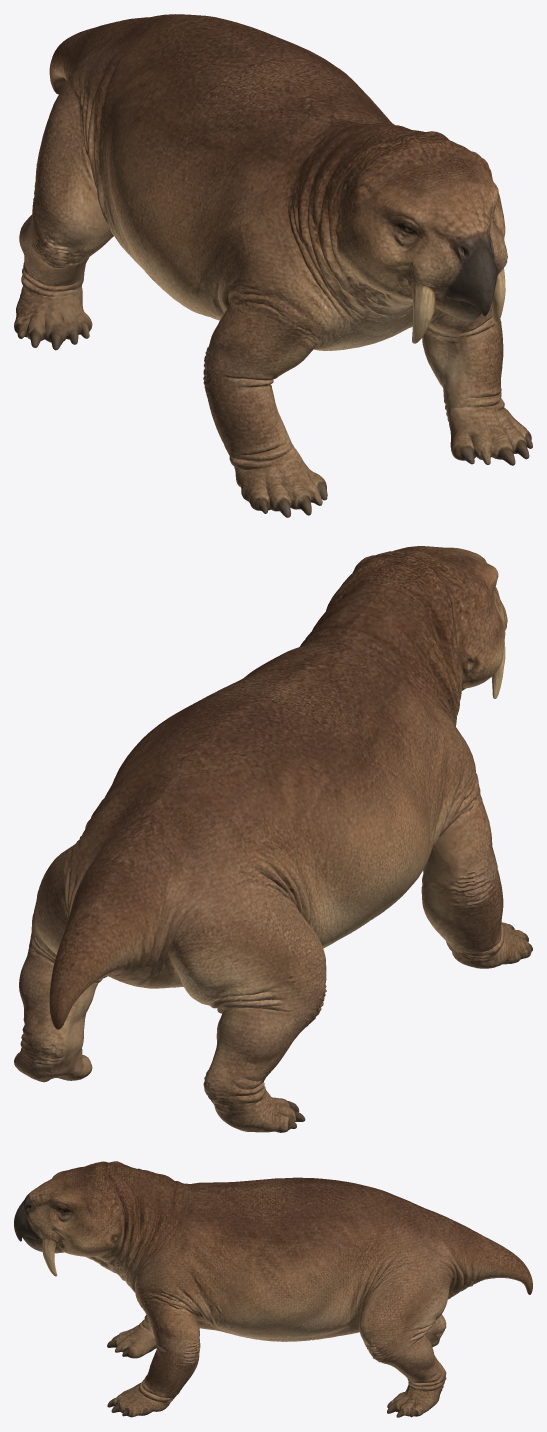
3 views of the same model, one above another, from view 1: azimuth 30°, elevation 25°; view 2: azimuth 150°, elevation 25°; view 3: azimuth 270°, elevation 25° (orthographic). The views are drawn at different scales.
Parts seen in each view (by area): view 1: Authored orientation; view 2: Authored orientation; view 3: Authored orientation.
Boxes of the visible parts, x1,y1,x2,y2 form: Authored orientation: (14, 14, 532, 517); Authored orientation: (14, 546, 532, 1132); Authored orientation: (14, 1161, 532, 1417).
Bounding box in the file's own units: 0.1727 × 0.2028 × 0.4499.
Materials: 1 (1 with a texture image).
